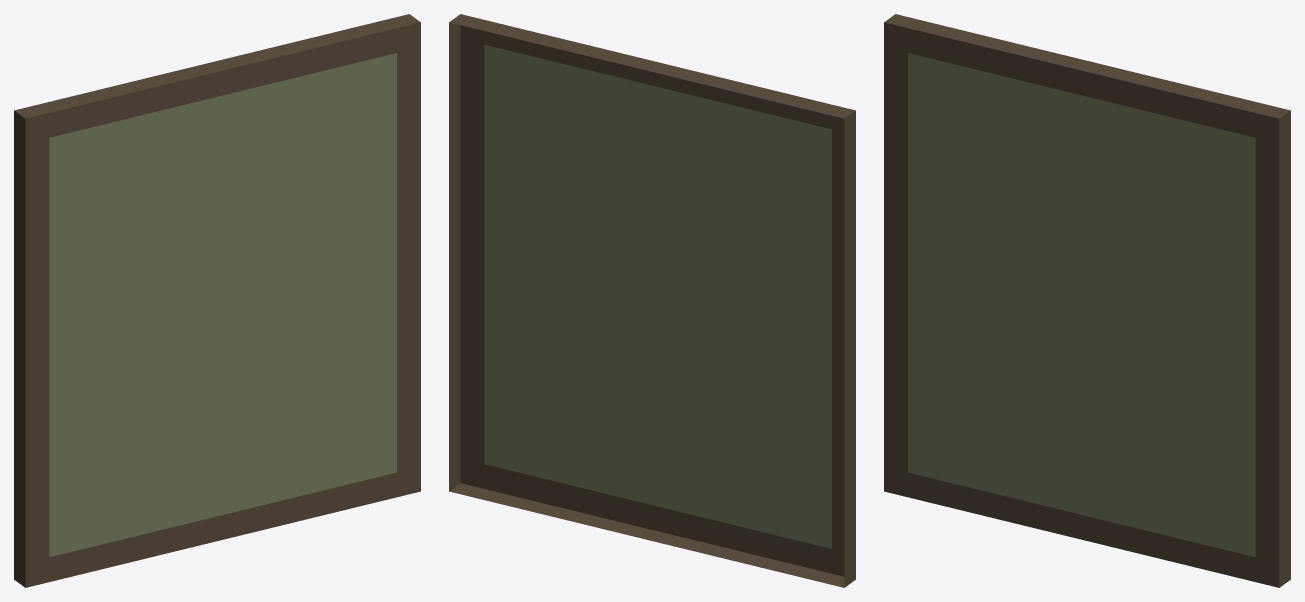
The model's file is Paint_14.fbx.
3 views of the same model, side by side, from view 1: azimuth 30°, elevation 25°; view 2: azimuth 150°, elevation 25°; view 3: azimuth 330°, elevation 25° (orthographic).
Parts seen in each view (by area): view 1: polySurface949; view 2: polySurface949; view 3: polySurface949.
Boxes of the visible parts, x1,y1,x2,y2 form: polySurface949: (14, 14, 420, 587); polySurface949: (449, 14, 855, 587); polySurface949: (884, 14, 1290, 587).
Bounding box in the file's own units: 1.6 × 1.81 × 0.08.
1 material, 1 textured.
